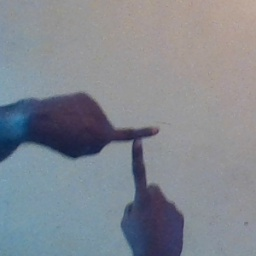T: (78, 95, 194, 223)
